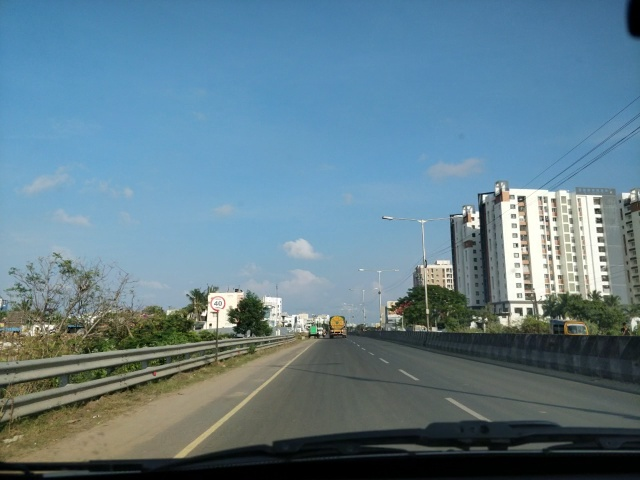auto: (549, 313, 590, 350), (547, 318, 594, 335)
motorbike: (321, 329, 328, 338)
truck: (331, 317, 346, 338)
